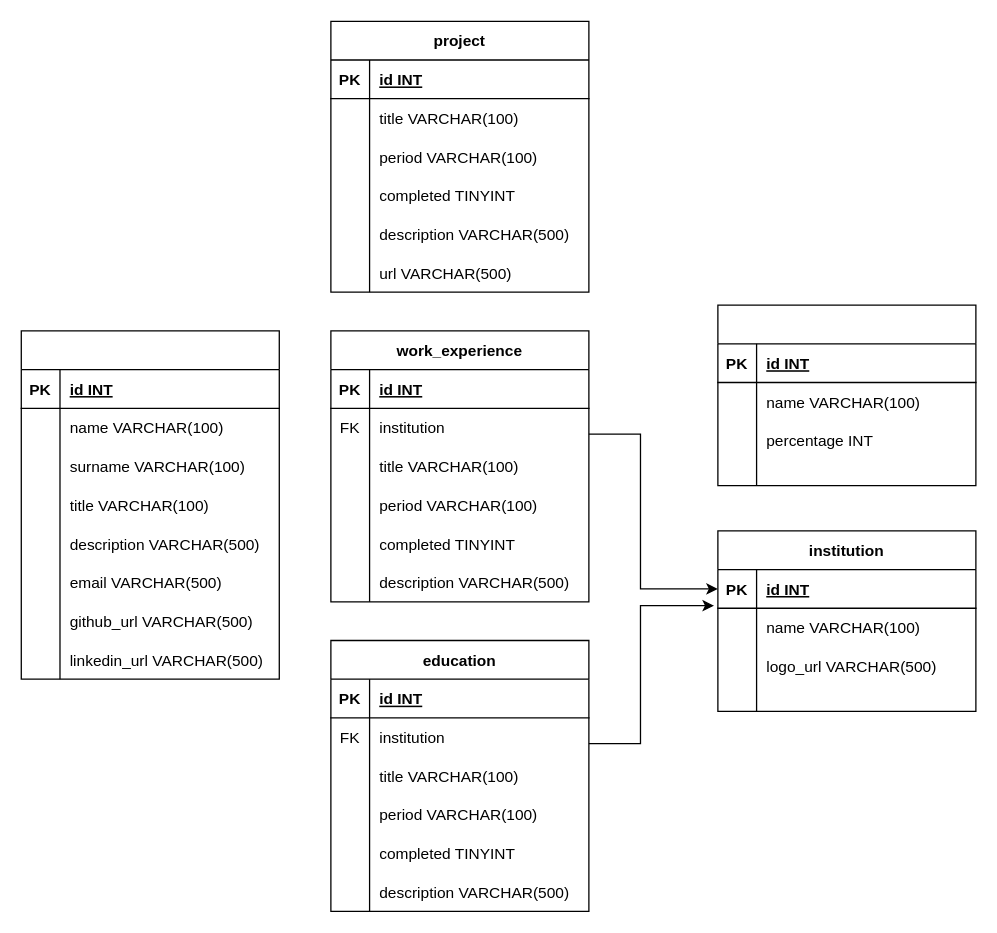
The diagram is 997 pixels wide and 933 high, and some of its shapes have lost their labels. Here are the shapes that lost their labels. From the top down, the box of each, then its label:
(717, 304, 976, 486): skill
(20, 330, 279, 679): person
